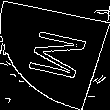M_E: (18, 26, 92, 84)
